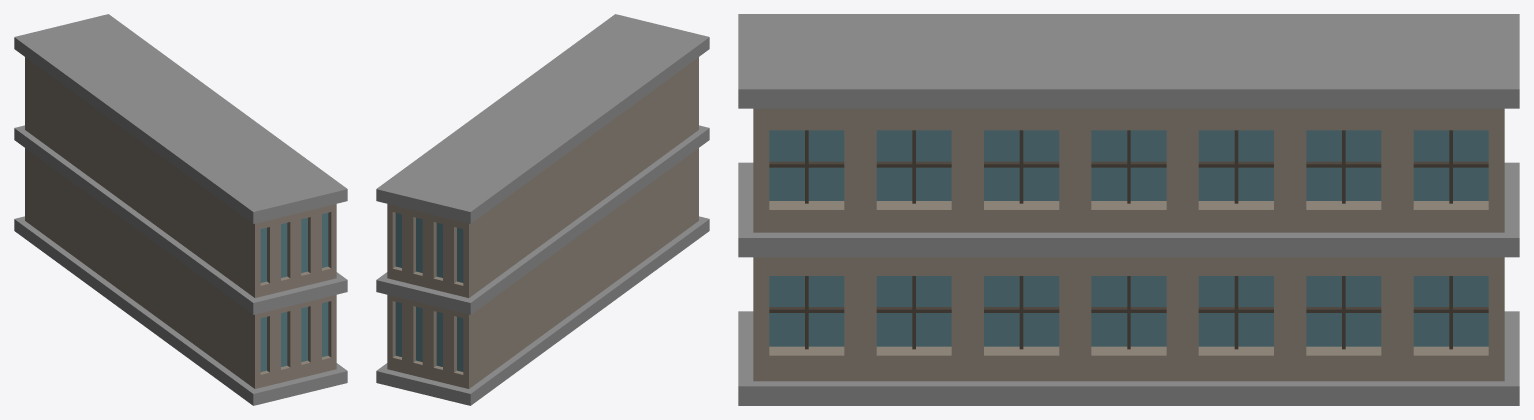
File: Apartment2.fbx
3 renders of one model, left to right at view 1: azimuth 30°, elevation 25°; view 2: azimuth 150°, elevation 25°; view 3: azimuth 270°, elevation 25°, orthographic. The views are drawn at different scales.
Visible parts, largest first — view 1: Apartment2; view 2: Apartment2; view 3: Apartment2.
Part boxes in pixels (left/top/right/bottom): Apartment2: left=14, top=14, right=347, bottom=405; Apartment2: left=376, top=14, right=709, bottom=405; Apartment2: left=738, top=14, right=1519, bottom=405.
Bounding box in the file's own units: 231 × 453 × 1013.
